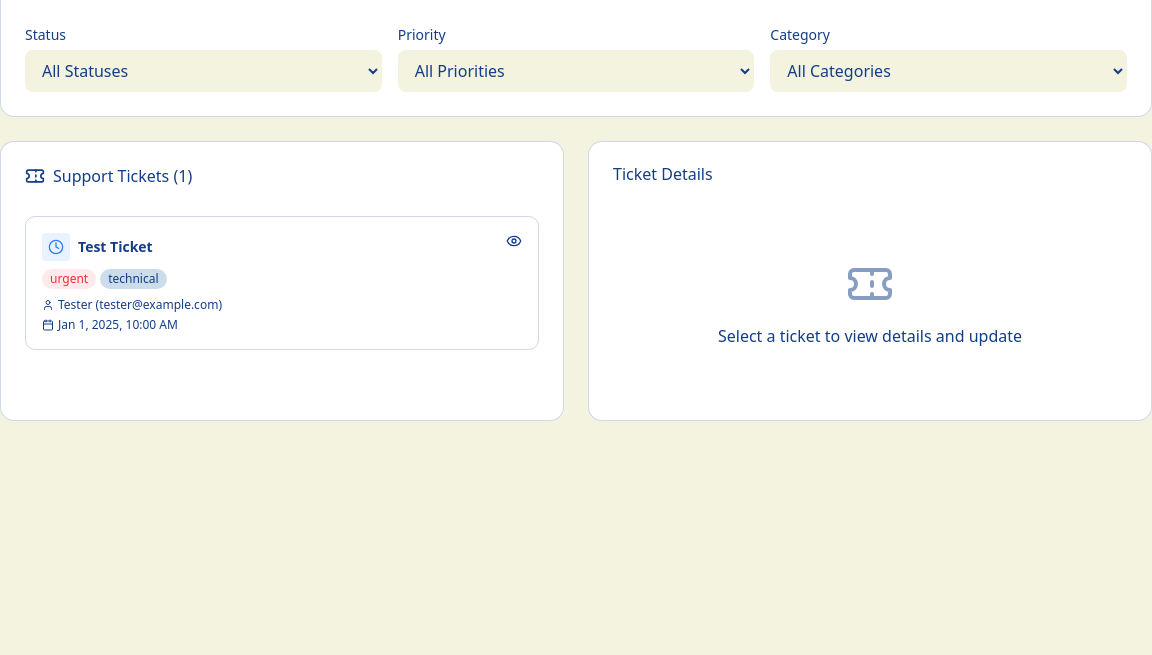
Scenario: AdminTicketsList › renders ticket list and details on select
What coordinates should you click on to do the following:
click the heading "Test Ticket"
I would click on:
 (115, 247)
Its box is top-left (78, 237), bottom-right (153, 257).
(page scrolled)
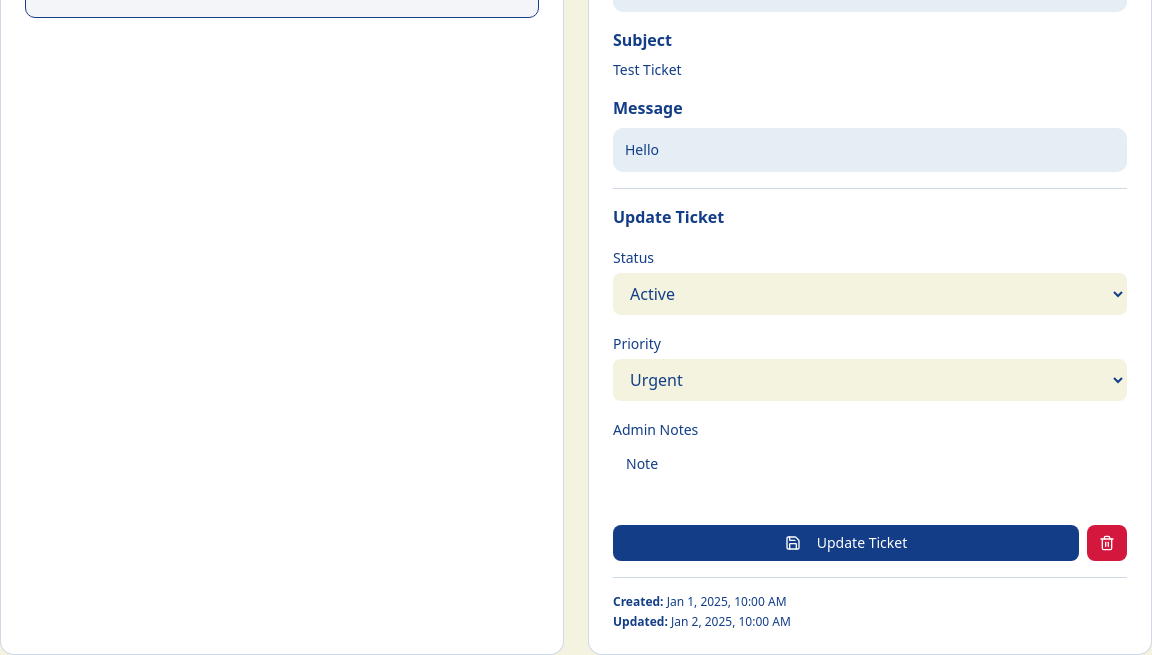
Check: the text "Hello" is shown, box top-left (613, 128), bottom-right (1127, 172)
Check: the text box showing "Note" is shown, box top-left (613, 445), bottom-right (1127, 509)
